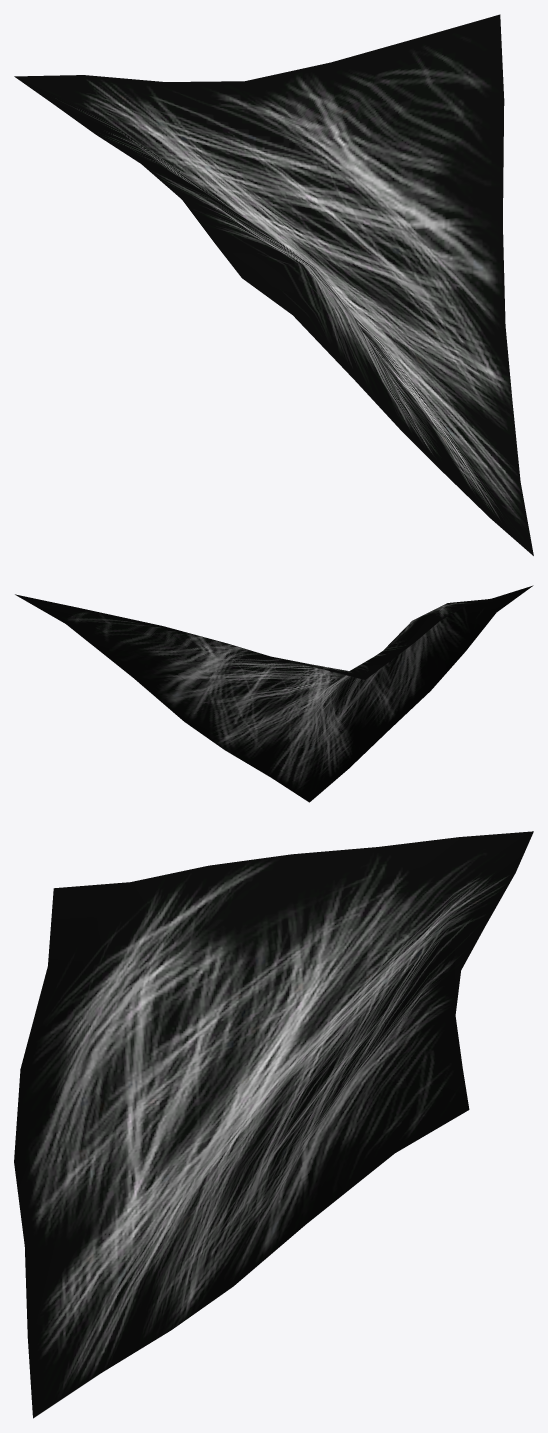
Rendered from SWORDLIGHT20_PS-AREA01_CORNERWEB05.fbx.
3 renders of one model, top to bottom at view 1: azimuth 30°, elevation 25°; view 2: azimuth 150°, elevation 25°; view 3: azimuth 270°, elevation 25°, orthographic. The views are drawn at different scales.
Visible parts, largest first — view 1: SWORDLIGHT20_PS-AREA01_CORNERWEB05; view 2: SWORDLIGHT20_PS-AREA01_CORNERWEB05; view 3: SWORDLIGHT20_PS-AREA01_CORNERWEB05.
Part boxes in pixels (left/top/right/bottom): SWORDLIGHT20_PS-AREA01_CORNERWEB05: left=14, top=14, right=533, bottom=555; SWORDLIGHT20_PS-AREA01_CORNERWEB05: left=15, top=585, right=533, bottom=802; SWORDLIGHT20_PS-AREA01_CORNERWEB05: left=14, top=831, right=533, bottom=1418.
Bounding box in the file's own units: 67216 × 54295 × 59744.
Materials: 1 (1 with a texture image).
